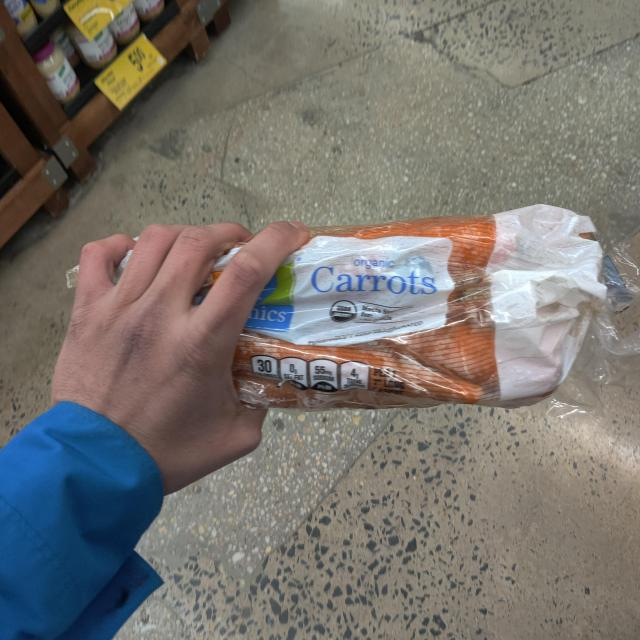Carrots: (54, 203, 627, 429)
